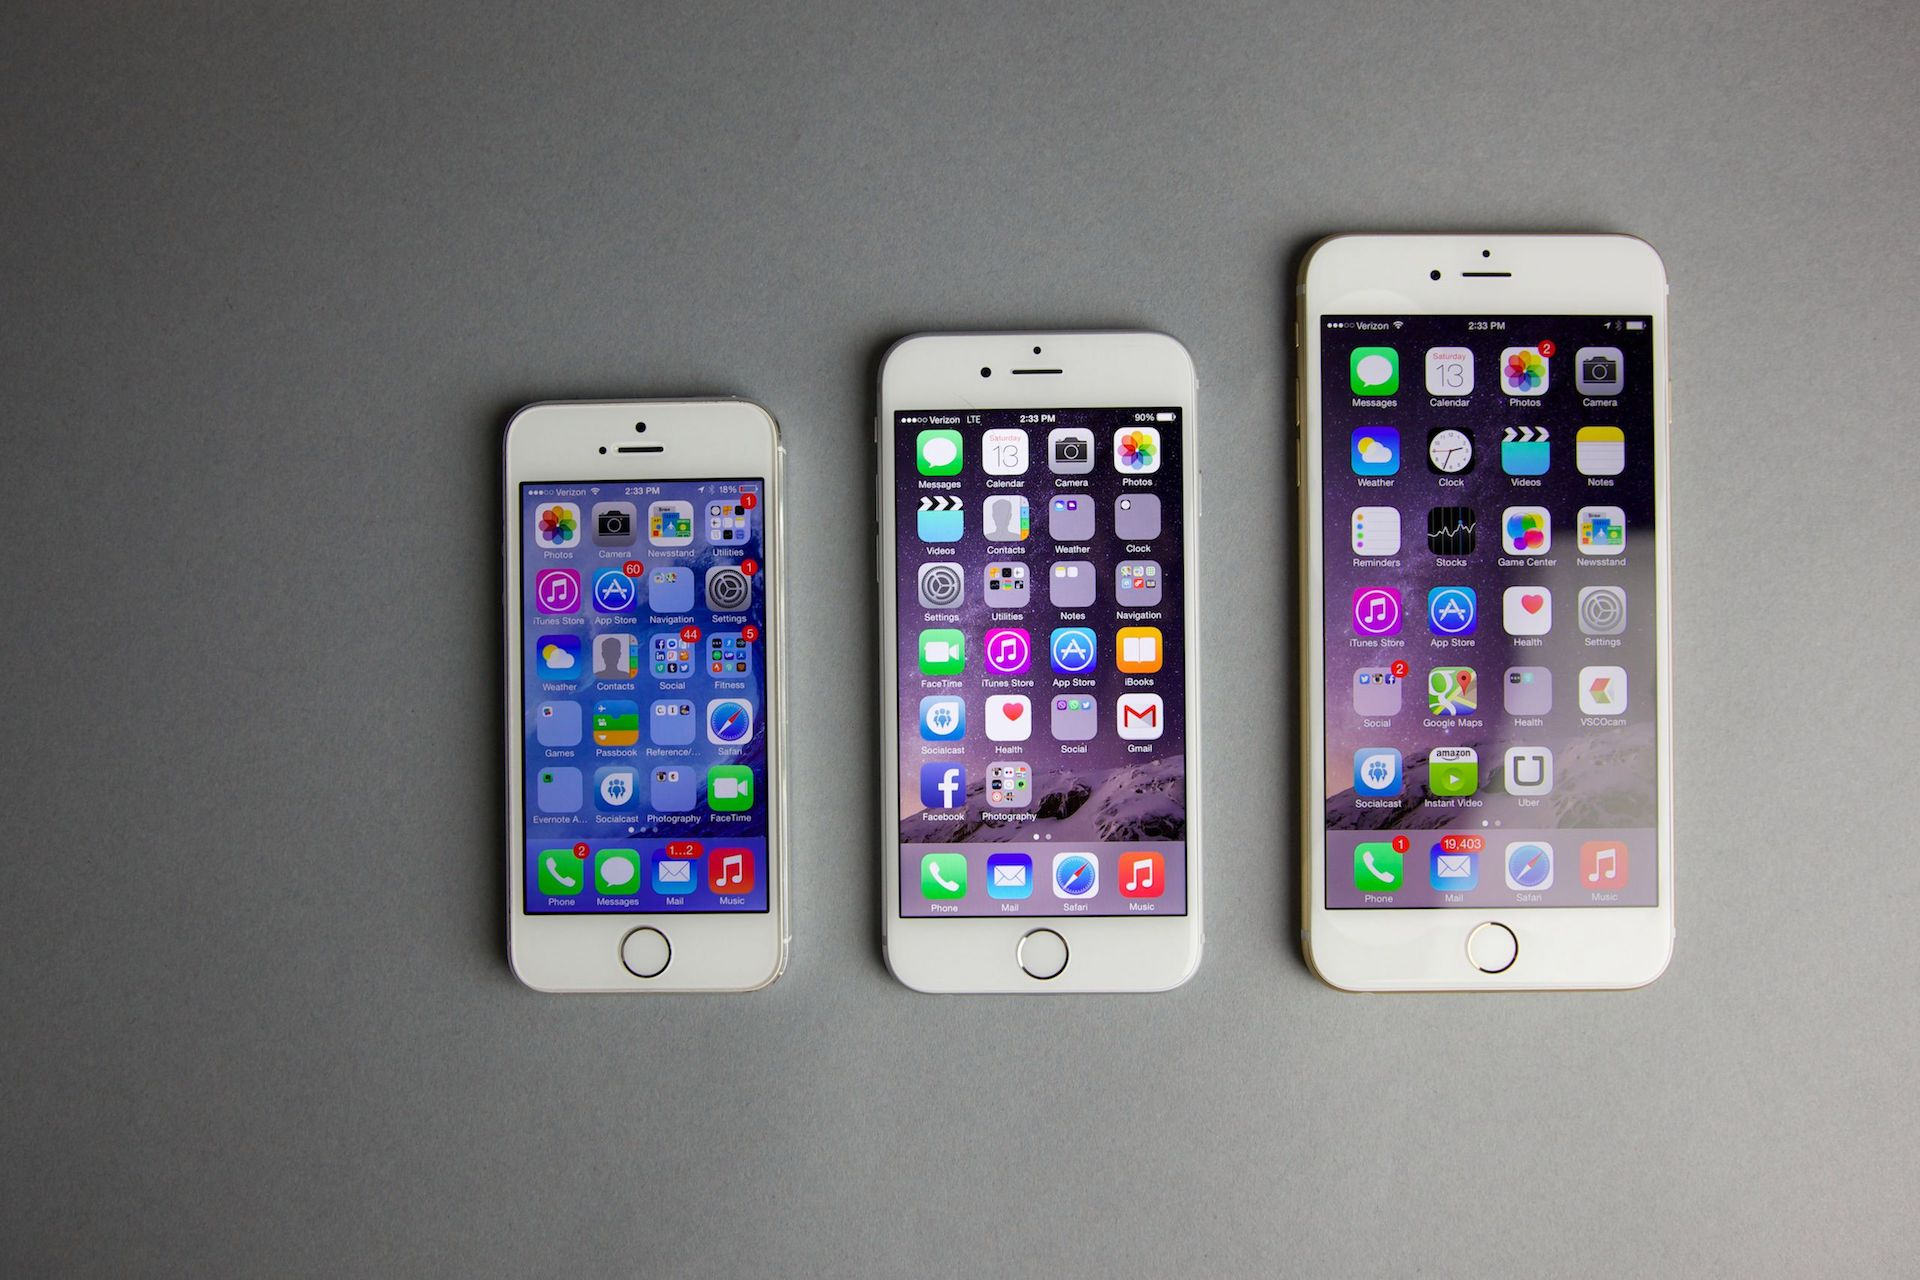smartphone: (1294, 229, 1680, 991), (869, 326, 1209, 999), (499, 393, 794, 999)
